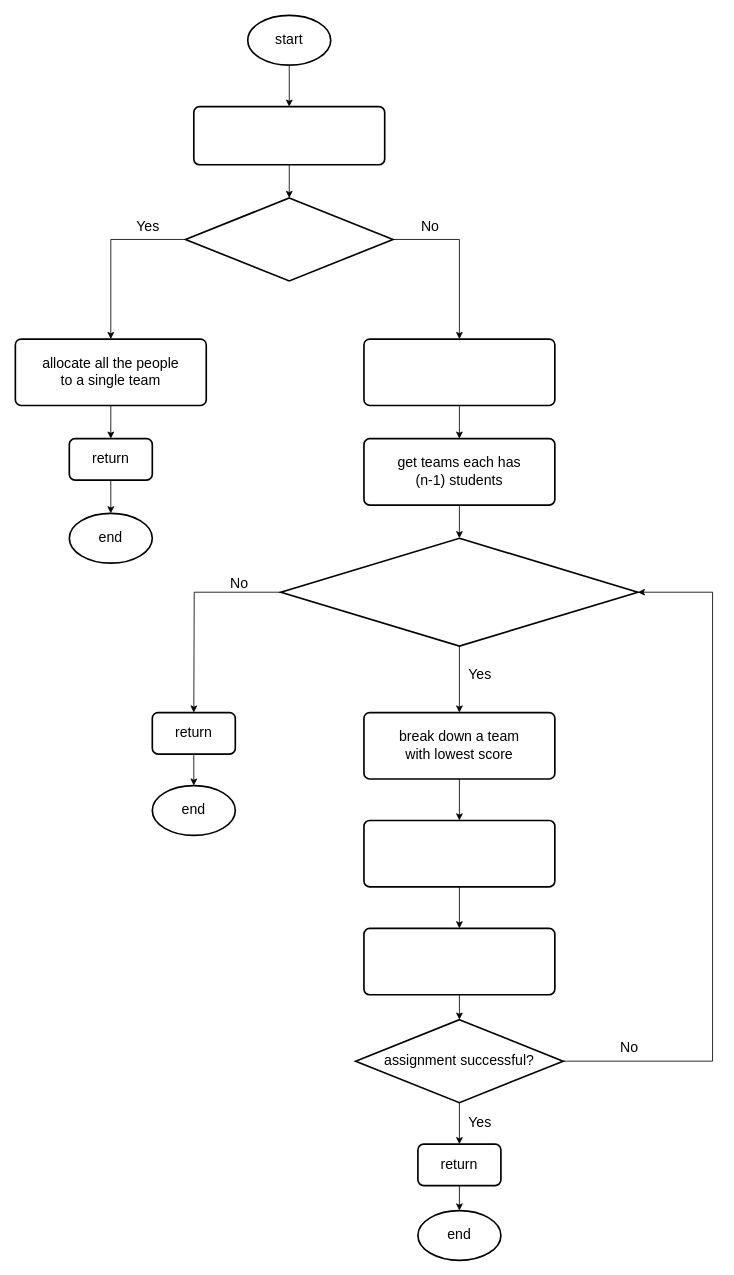
The diagram is 734 pixels wide and 1275 high, and some of its shapes have lost their labels. Here are the shapes that lost their labels. From the top down, the centre of each, then its label:
At point (289, 135): "start allocation: allocation.begin(n)".
At point (288, 239): "recursion: n == 1?".
At point (459, 372): "repeat recursion: allocation.begin(n-1)".
At point (459, 592): "exists team_need_student ?".
At point (459, 853): "pull students into unallo.".
At point (459, 961): "assign unallo. into team_need_student".
